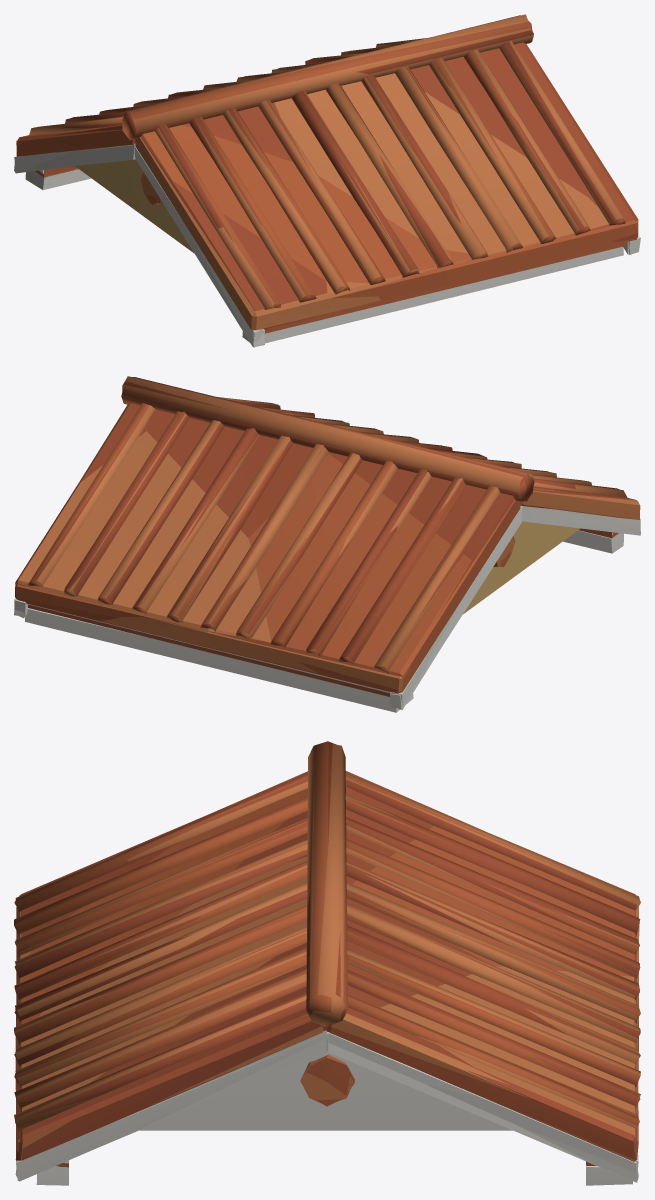
The model's file is roof.gable.glb.
3 views of the same model, one above another, from view 1: azimuth 30°, elevation 25°; view 2: azimuth 150°, elevation 25°; view 3: azimuth 270°, elevation 25° (orthographic). The views are drawn at different scales.
Visible parts, largest first — view 1: roof.gable.v1.mesh, roof.gable.v0.mesh, roof.gable.v2.mesh; view 2: roof.gable.v1.mesh, roof.gable.v0.mesh, roof.gable.v2.mesh; view 3: roof.gable.v0.mesh, roof.gable.v1.mesh, roof.gable.v2.mesh.
Boxes of the visible parts, bbox=[...] form: roof.gable.v1.mesh: bbox=[14, 14, 638, 347]; roof.gable.v0.mesh: bbox=[14, 20, 640, 346]; roof.gable.v2.mesh: bbox=[17, 15, 638, 347]; roof.gable.v1.mesh: bbox=[14, 376, 640, 709]; roof.gable.v0.mesh: bbox=[14, 377, 640, 712]; roof.gable.v2.mesh: bbox=[14, 381, 640, 707]; roof.gable.v0.mesh: bbox=[14, 741, 640, 1185]; roof.gable.v1.mesh: bbox=[14, 744, 640, 1182]; roof.gable.v2.mesh: bbox=[14, 741, 640, 1180].
Size of the model in its own units: 2.31 by 0.8719 by 2.43.
